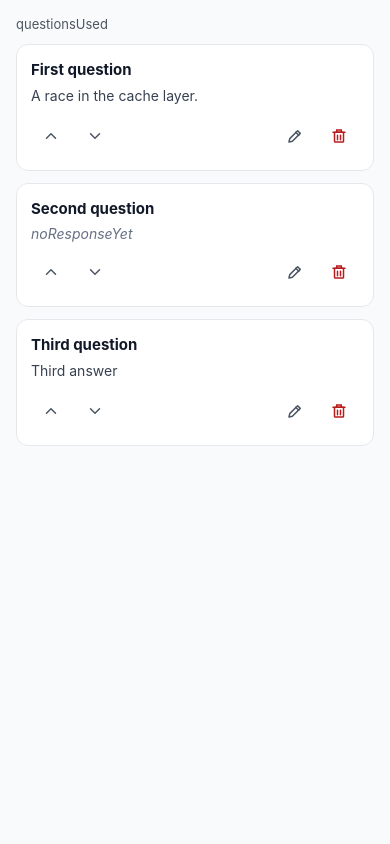
Test: InterviewQuestionsScreen › editing › opens the form filled with the question and its response
Click the button with test id "edit-question-q1": (295, 136) [275,116,315,156]
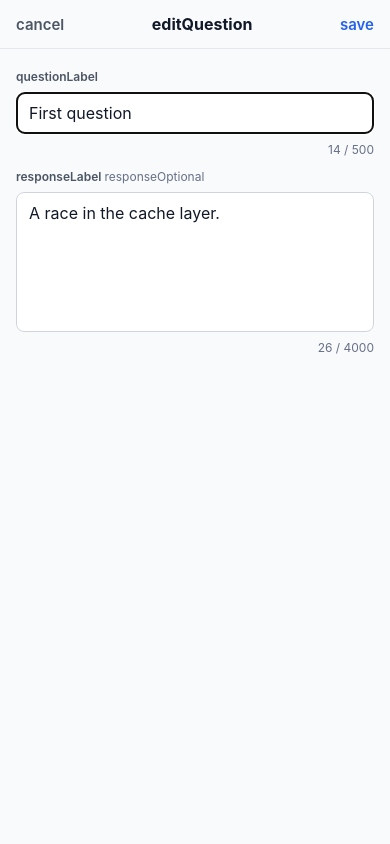
Now the field with test id "question-input" holds "First question", box [16,92,374,134]
Now the text box with test id "answer-input" holds "A race in the cache layer.", box [16,192,374,332]
